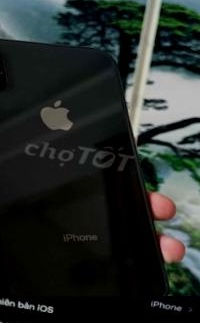scratch: (41, 160, 60, 173), (0, 64, 10, 81)
